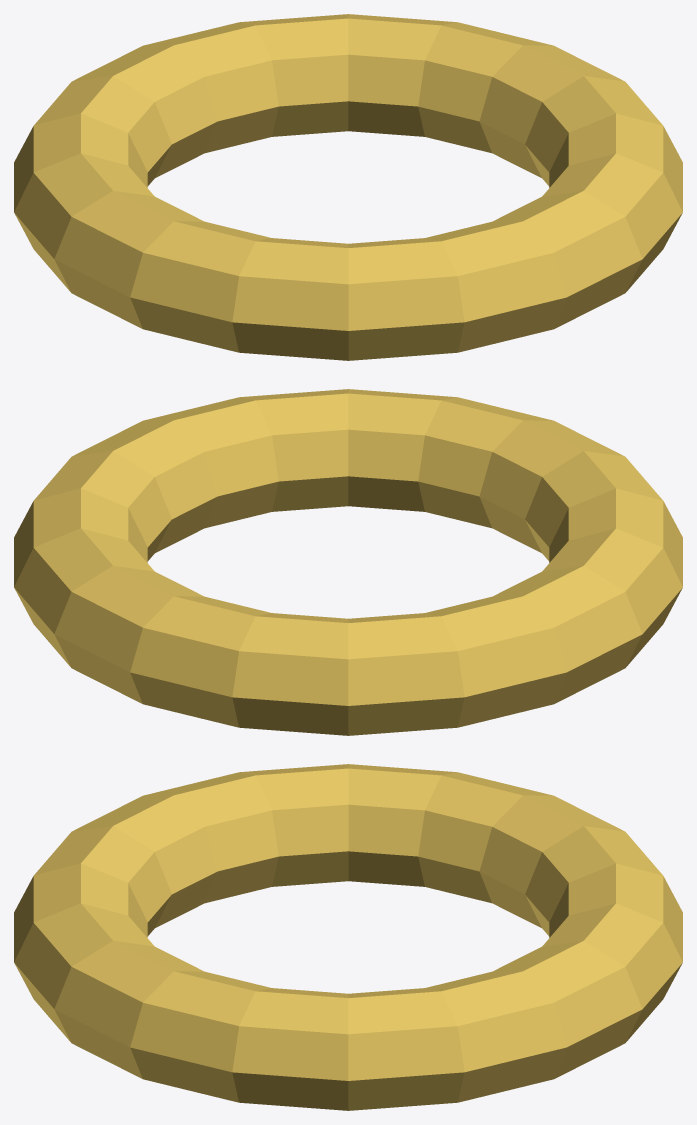
Rendered from Angel_ring.fbx.
3 renders of one model, top to bottom at view 1: azimuth 30°, elevation 25°; view 2: azimuth 150°, elevation 25°; view 3: azimuth 270°, elevation 25°, orthographic.
Visible parts, largest first — view 1: Torus; view 2: Torus; view 3: Torus.
Part boxes in pixels (left/top/right/bottom): Torus: left=14, top=14, right=682, bottom=360; Torus: left=14, top=389, right=682, bottom=735; Torus: left=14, top=764, right=682, bottom=1110.
Bounding box in the file's own units: 15.8 × 2.78 × 15.56.
